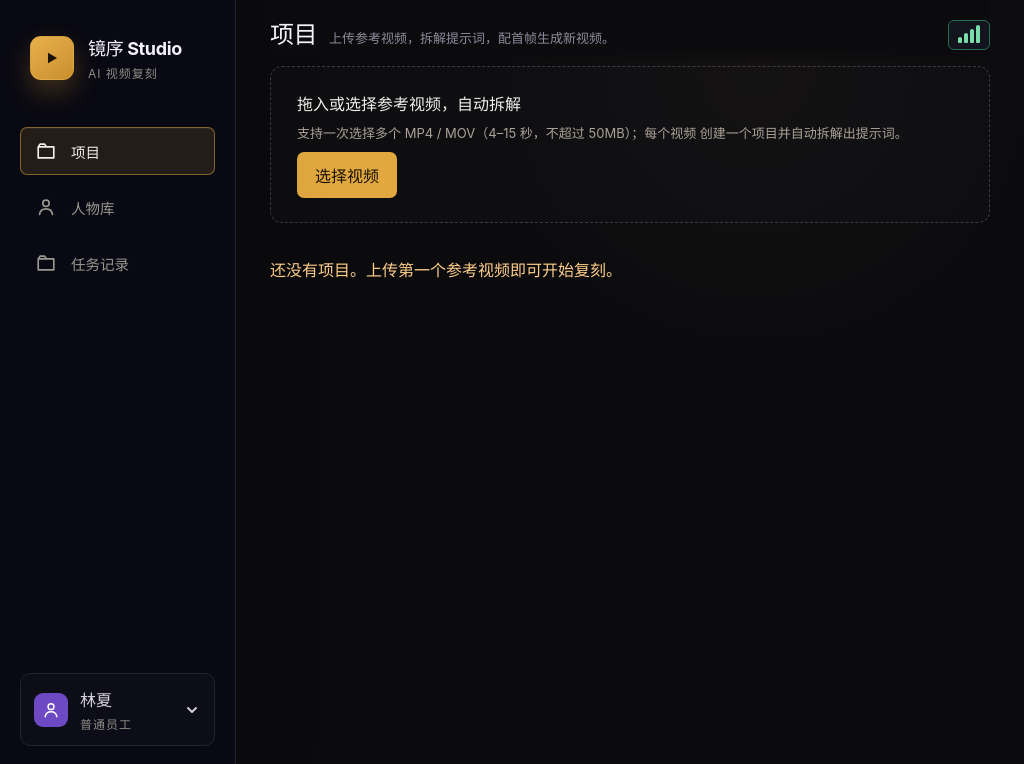
it: App › renders one wallet panel from the shared navigation
Expected: the heading "项目" is shown, [270,20,317,50]
Click the button with aria-label "用户菜单": (118, 710) [20,673,215,746]
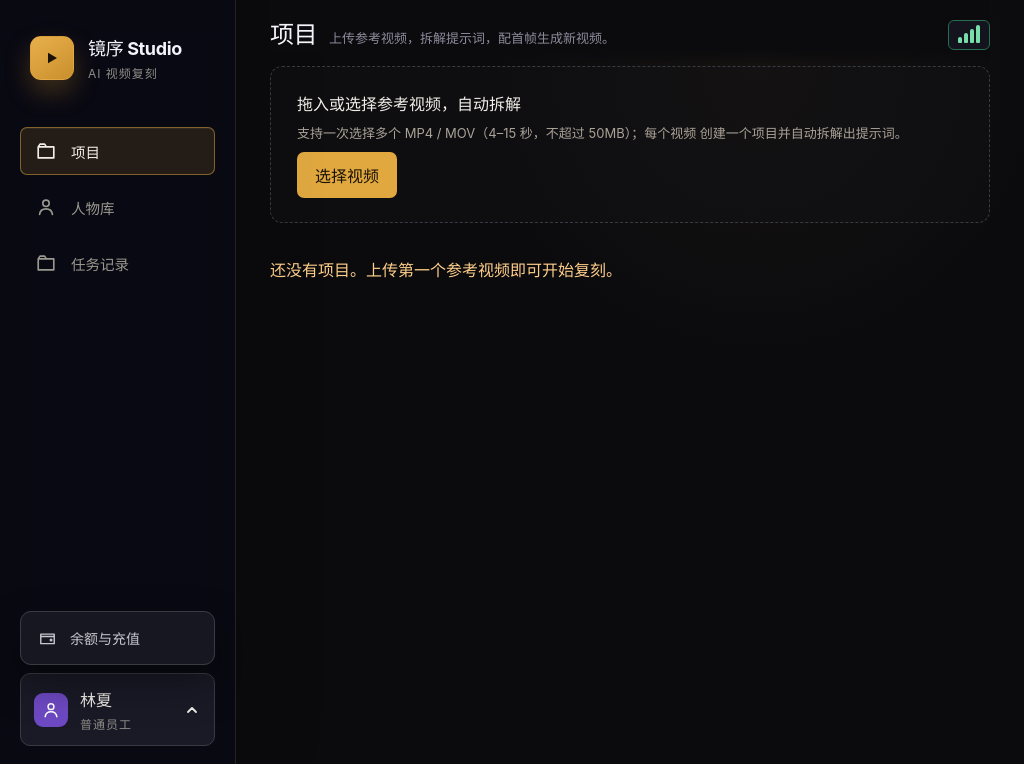
Click the button "余额与充值": (118, 638) [27,618,208,658]
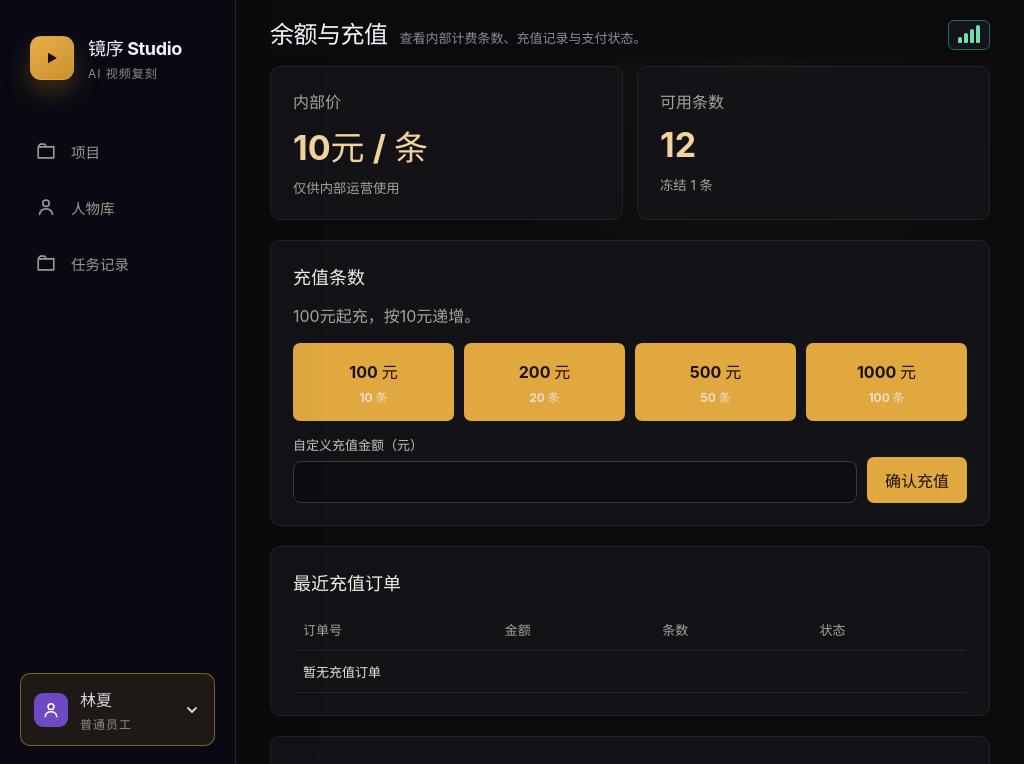
Now the text "10元 / 条" is shown once, box [293,127,428,168]
